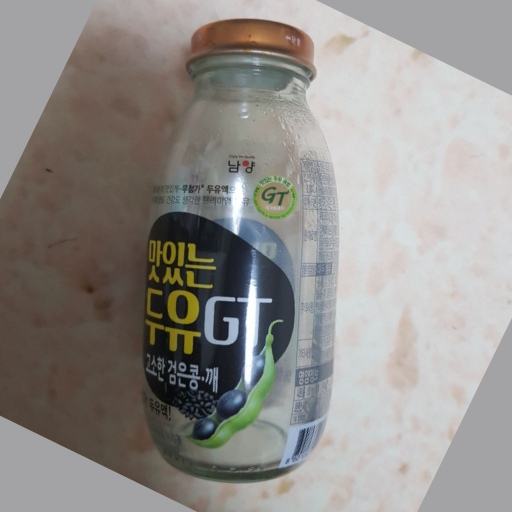Glass_4: (137, 20, 336, 483)
